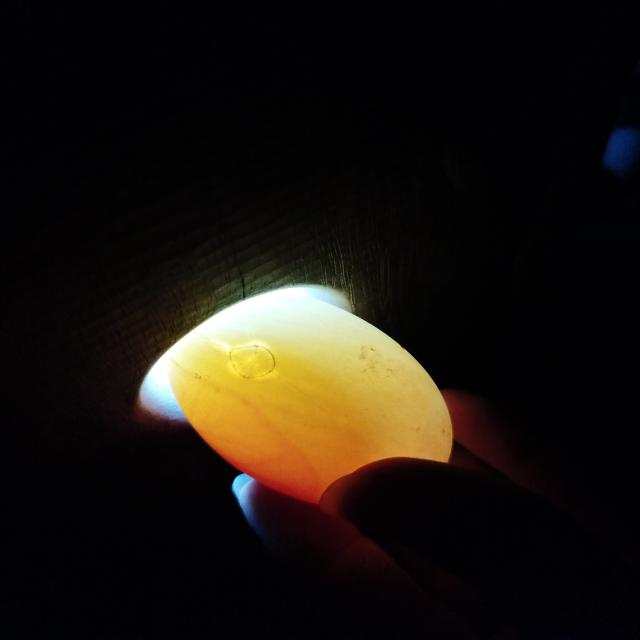Gema Quebrada: (205, 440, 331, 504)
Rachadura: (230, 345, 275, 378)
